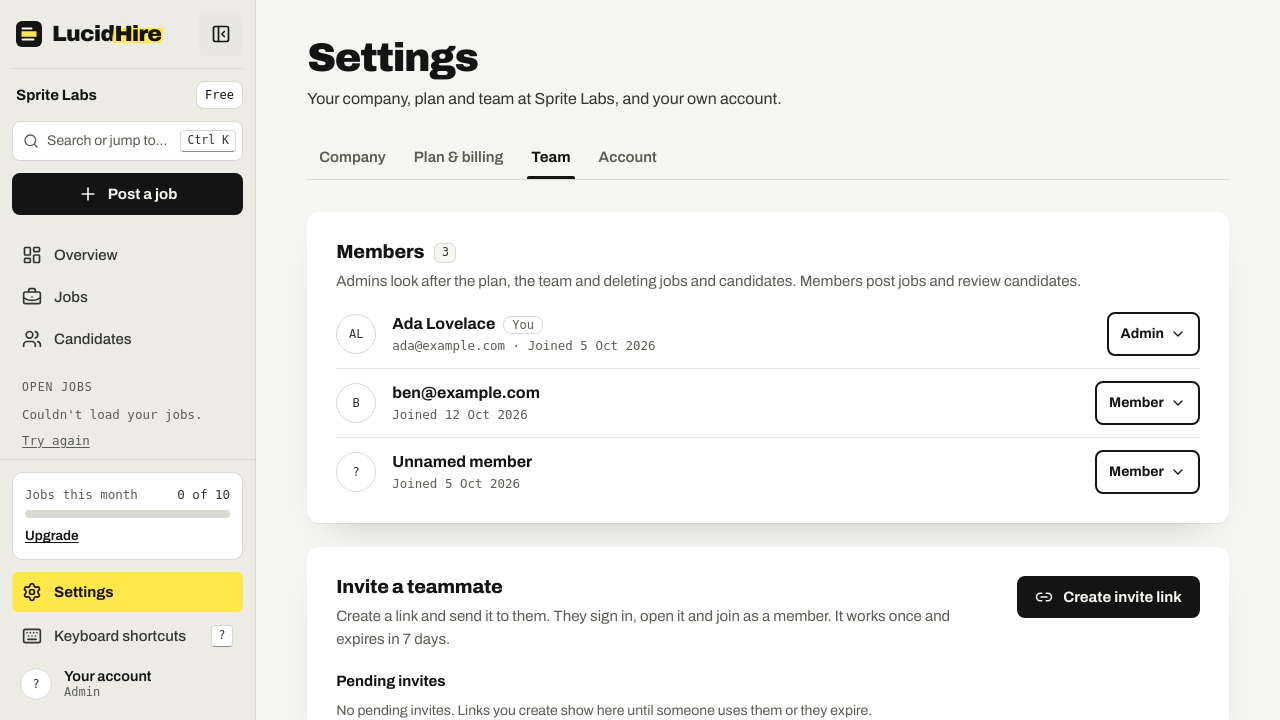
the members card › lets an admin change a role from the menu, and says so
Click the button named "Role for ben@example.com: Member": click(1147, 404) [1095, 382, 1200, 426]
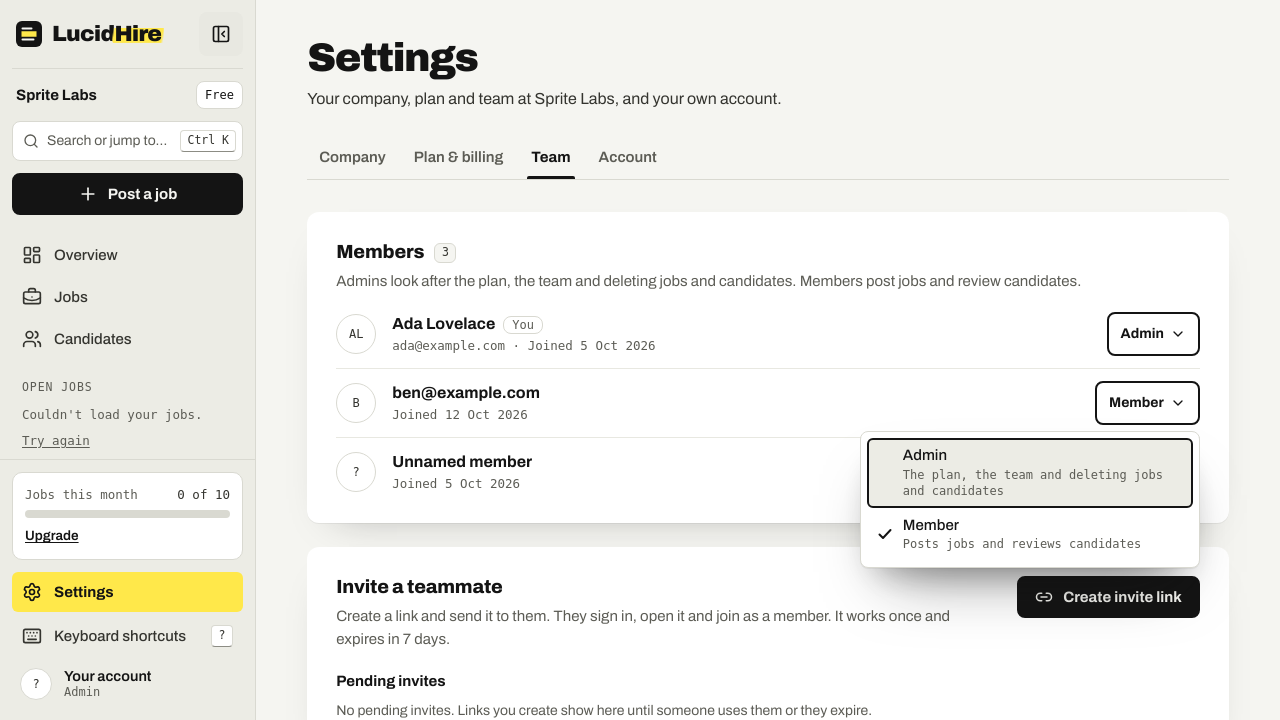
Click the menu item "Admin The plan, the team and deleting jobs and candidates": click(1030, 473) [867, 438, 1193, 508]
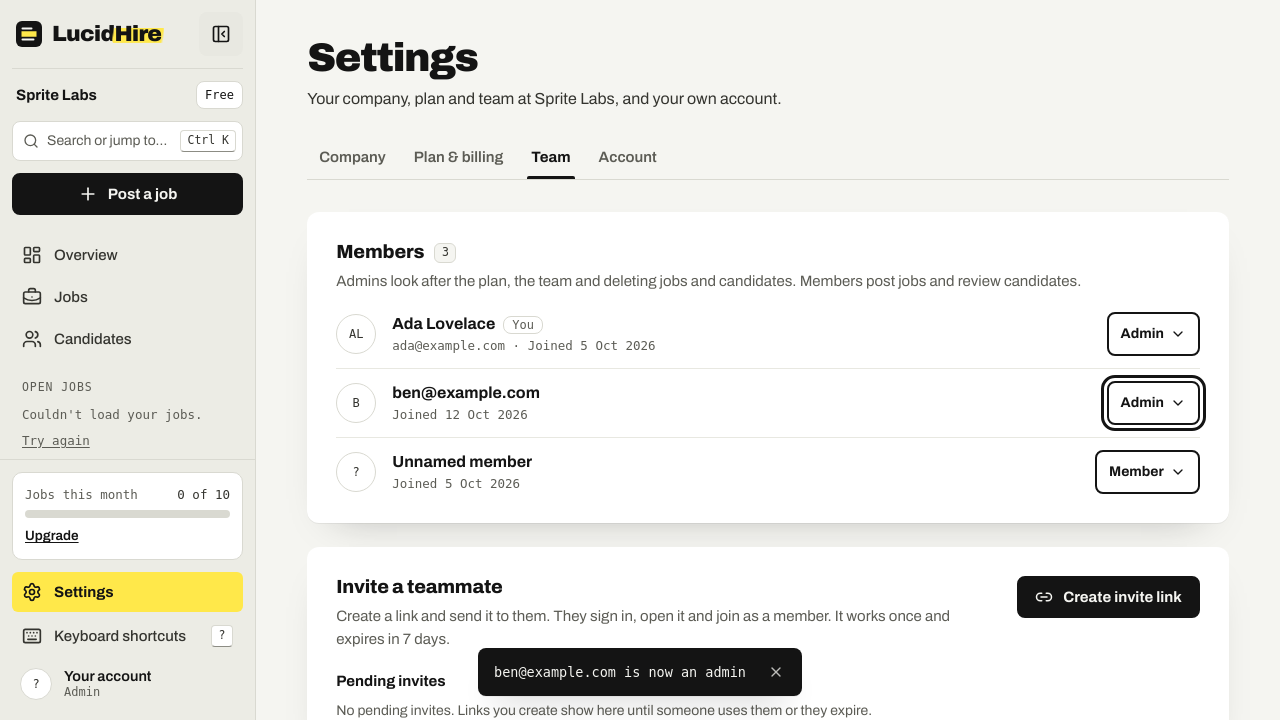
Expected: the button named "Role for ben@example.com: Admin" is shown, [1106, 382, 1200, 426]
Result: the text "ben@example.com is now an admin" is shown at [494, 664, 746, 680]
